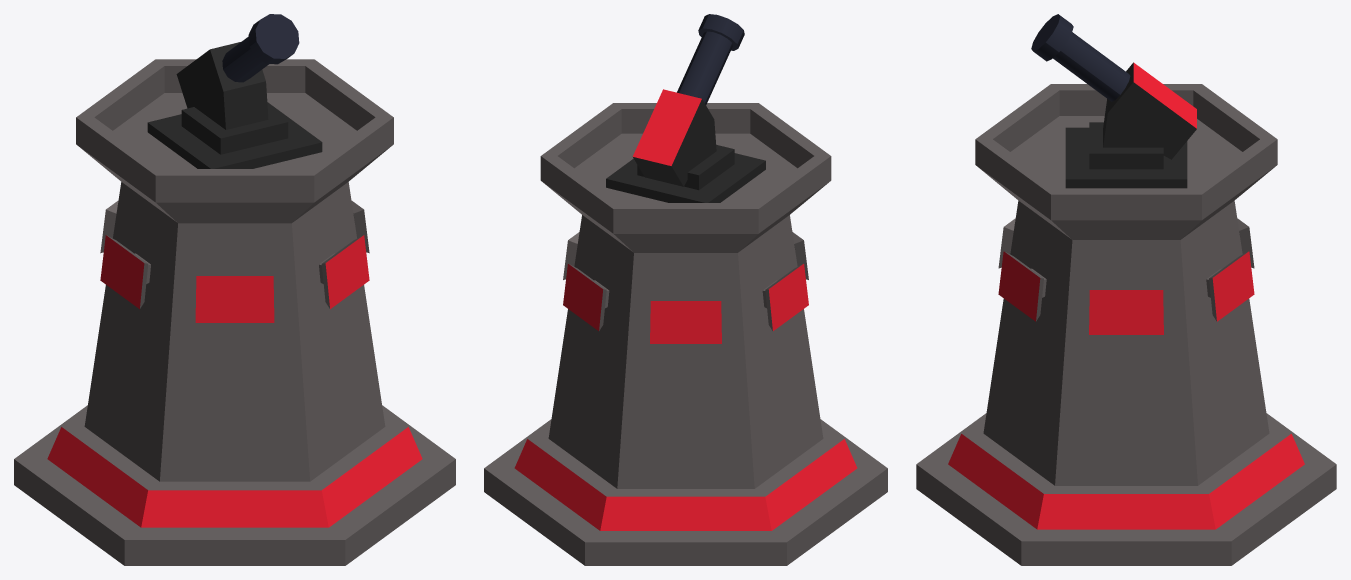
Rendered from Tower.fbx.
3 renders of one model, left to right at view 1: azimuth 30°, elevation 25°; view 2: azimuth 150°, elevation 25°; view 3: azimuth 270°, elevation 25°, orthographic. The views are drawn at different scales.
Parts seen in each view (by area): view 1: Tower, Flags, Canon, Barrel; view 2: Tower, Flags, Canon, Barrel, Flag; view 3: Tower, Flags, Canon, Barrel, Flag.
Part boxes in pixels (bbox=[...]): Tower: bbox=[14, 59, 455, 565]; Flags: bbox=[47, 235, 422, 527]; Canon: bbox=[147, 42, 322, 168]; Barrel: bbox=[222, 14, 299, 82]; Tower: bbox=[484, 103, 887, 565]; Flags: bbox=[514, 264, 857, 530]; Canon: bbox=[606, 99, 765, 202]; Barrel: bbox=[677, 14, 744, 104]; Flag: bbox=[633, 89, 701, 165]; Tower: bbox=[916, 84, 1336, 565]; Flags: bbox=[948, 251, 1304, 529]; Canon: bbox=[1065, 62, 1196, 188]; Barrel: bbox=[1031, 14, 1130, 101]; Flag: bbox=[1133, 63, 1196, 128].
Bounding box in the file's own units: 693 × 992 × 800.
